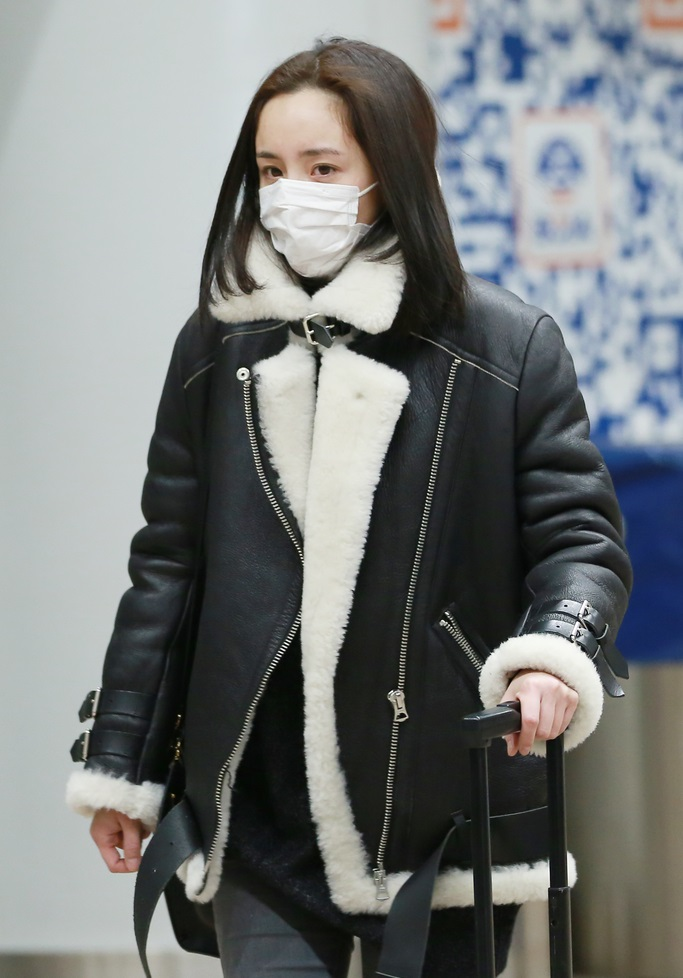face_mask: (253, 80, 371, 284)
